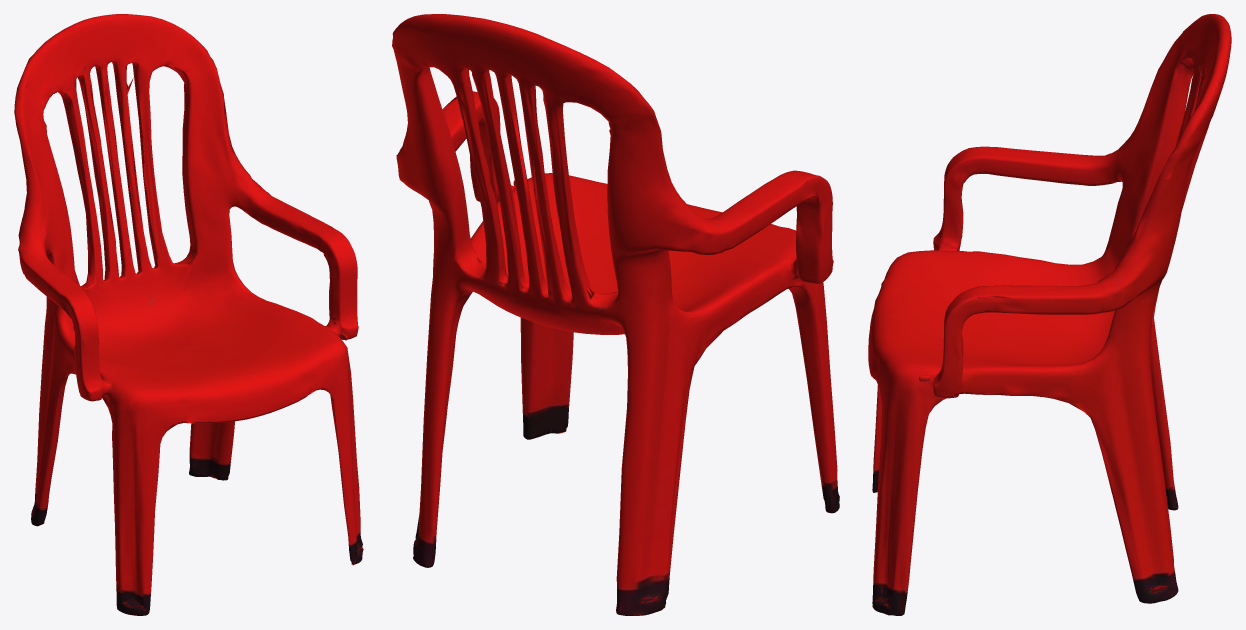
The model's file is ghenhua.glb.
The picture shows the model from 3 angles, left to right: view 1: azimuth 30°, elevation 25°; view 2: azimuth 150°, elevation 25°; view 3: azimuth 270°, elevation 25°; orthographic projection. The views are drawn at different scales.
Size of the model in its own units: 0.6011 by 0.9507 by 0.603.
Materials: 1 (1 with a texture image).
